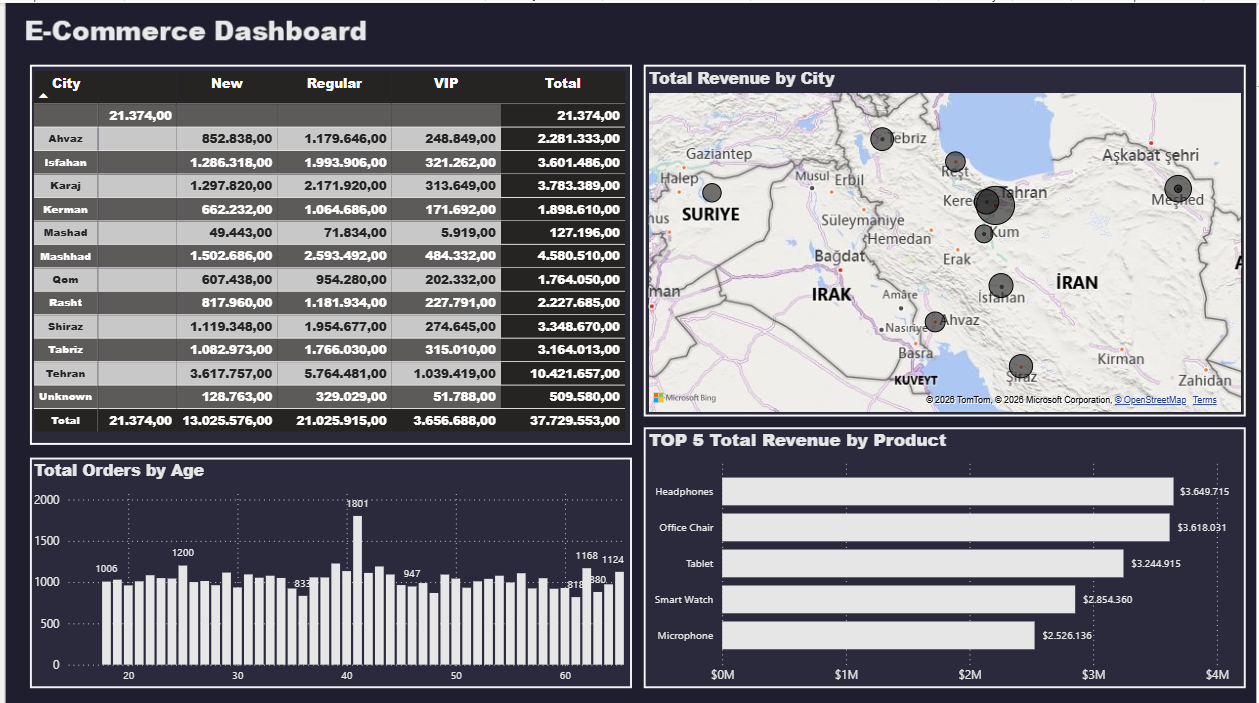

What the dashboard file says about the page in this screenshot:
{"tool":"powerbi","page":{"name":"Customer & Product Deep-Dive","canvas":[1280,720],"ordinal":1},"visuals":[{"type":"pivotTable","fields":{"Rows":["Dim_Customer.City"],"Columns":["Dim_Customer.CustomerSegment"],"Values":["Sum(Fact_Sales.TotalRevenue)"]},"box":[24.4,64,616.1,384.3],"z":0},{"type":"map","fields":{"Category":["Dim_Customer.City"],"Size":["_Measure.Total Revenue"]},"box":[654,64,616.1,359],"z":1},{"type":"clusteredBarChart","title":"TOP 5 Total Revenue by Product","fields":{"Category":["Dim_Product.ProductName"],"Y":["_Measure.Total Revenue"]},"box":[653.8,433.8,616,272.2],"z":2},{"type":"clusteredColumnChart","fields":{"Category":["Dim_Customer.Age"],"Y":["_Measure.Total Orders"]},"box":[24.6,465.5,616,240.4],"z":3}]}

Visuals, with their boxes in screenshot pixels (x1, y1, x2, y2), scaled from the page's 1280x720 canvas onto the 1259x703 screenshot:
pivotTable - Dim_Customer.City x Dim_Customer.CustomerSegment: crop(24, 62, 630, 438)
map - Dim_Customer.City x _Measure.Total Revenue: crop(643, 62, 1249, 413)
"TOP 5 Total Revenue by Product" clusteredBarChart: crop(643, 424, 1249, 689)
clusteredColumnChart - Dim_Customer.Age x _Measure.Total Orders: crop(24, 455, 630, 689)
